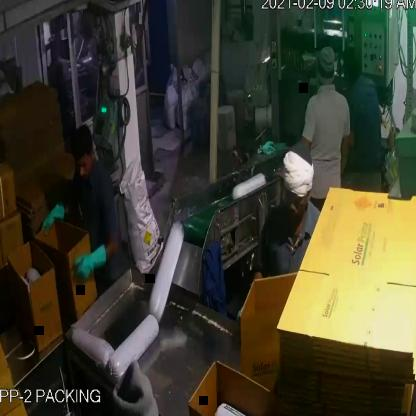glove: (74, 238, 115, 284), (40, 196, 67, 238)
